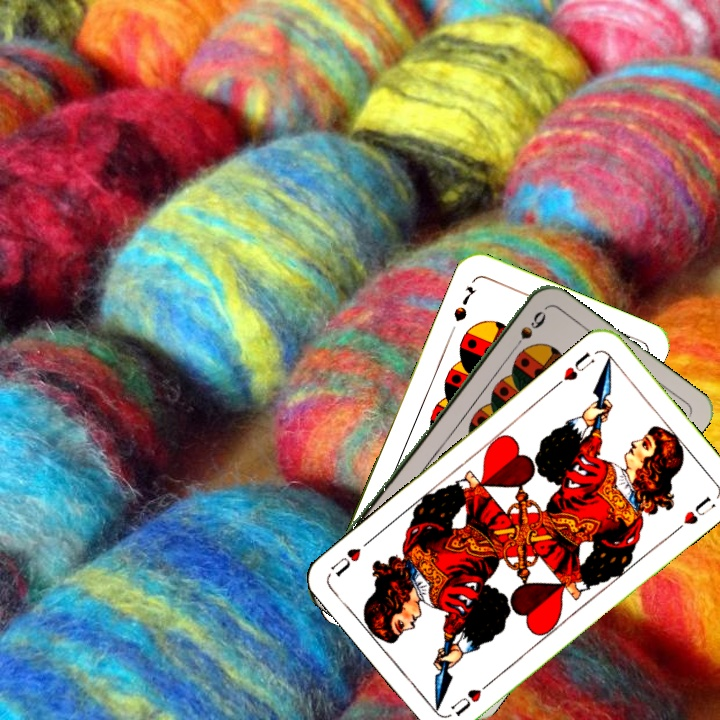HU: (446, 676, 496, 719), (551, 347, 598, 390)
S7: (449, 281, 478, 324)
S9: (506, 307, 547, 356)
